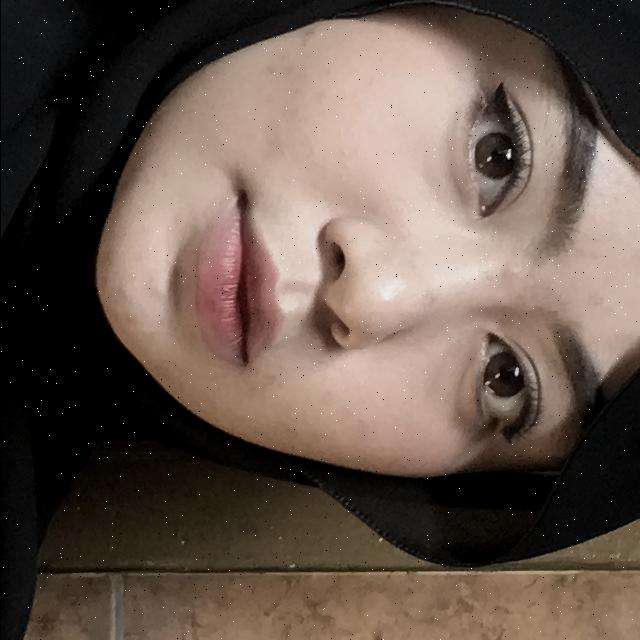ibu: (0, 0, 544, 250)
